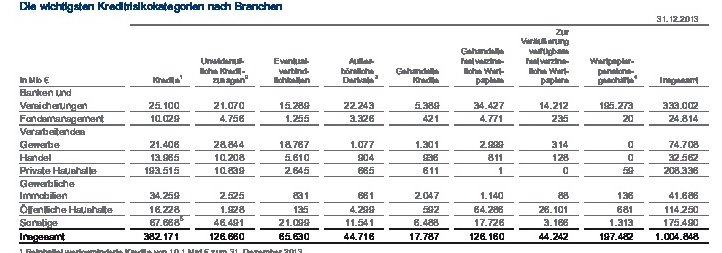table: (0, 0, 722, 253)
